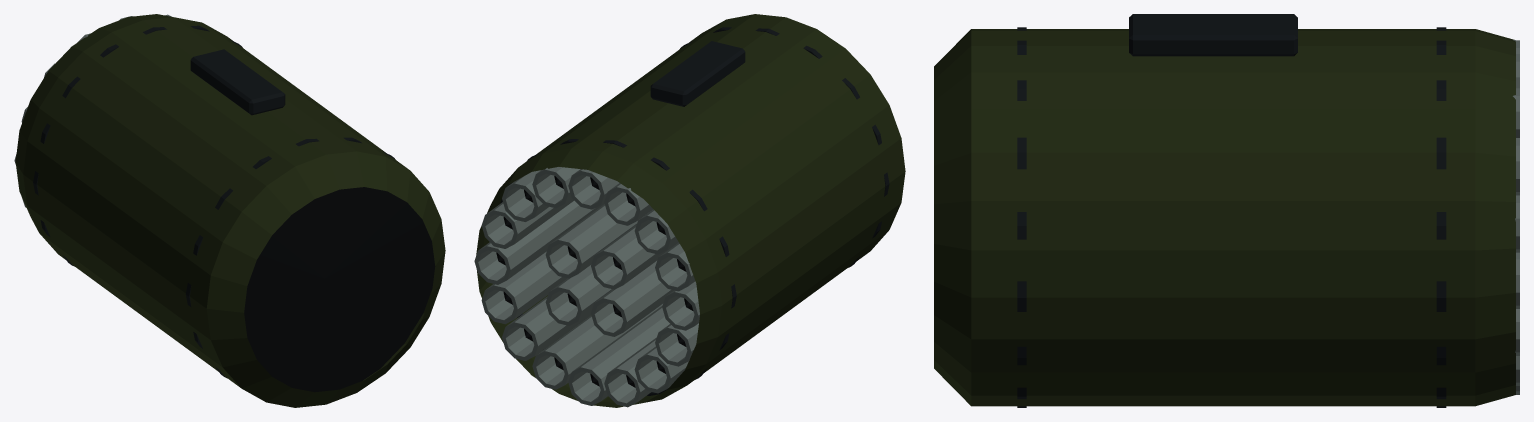
Rendered from Rocket80Twenty.obj.
3 views of the same model, side by side, from view 1: azimuth 30°, elevation 25°; view 2: azimuth 150°, elevation 25°; view 3: azimuth 270°, elevation 25° (orthographic). The views are drawn at different scales.
Parts seen in each view (by area): view 1: Pod_aerodynamic_outer_shell, Rear_bulkhead, Mount_lug, Identification_band, Identification_band.001; view 2: Pod_aerodynamic_outer_shell, Mount_lug, Tube_05, Tube_17, Tube_03, Tube_01, Tube_18, Tube_20, Tube_19, Tube_02, Tube_04, Tube_06 (+12 smaller); view 3: Pod_aerodynamic_outer_shell, Mount_lug, Identification_band.001, Identification_band.
Boxes of the visible parts, x1,y1,x2,y2 form: Pod_aerodynamic_outer_shell: (15,14,445,407); Rear_bulkhead: (244,187,435,392); Mount_lug: (190,49,285,115); Identification_band: (185,137,395,378); Identification_band.001: (33,25,242,266); Pod_aerodynamic_outer_shell: (476,14,905,407); Mount_lug: (650,41,745,106); Tube_05: (474,200,604,284); Tube_17: (568,306,669,405); Tube_03: (591,261,673,336); Tube_01: (545,204,637,278); Tube_18: (532,304,662,389); Tube_20: (481,251,566,324); Tube_19: (502,296,591,360); Tube_02: (591,225,678,289); Tube_04: (545,265,612,325); Tube_06: (481,198,573,248); Pod_aerodynamic_outer_shell: (934,29,1515,406); Mount_lug: (1129,14,1297,56); Identification_band.001: (1436,27,1446,407); Identification_band: (1017,27,1026,407).
Size of the model in its own units: 1.13 by 1.19 by 1.73.
